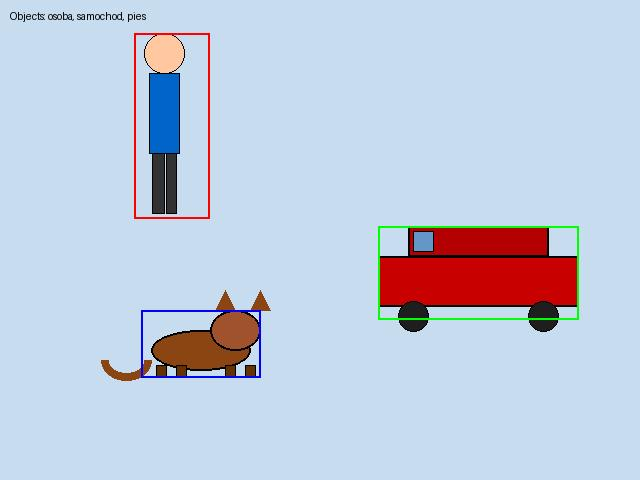osoba: (134, 33, 209, 218)
pies: (141, 310, 260, 377)
samochod: (378, 226, 578, 319)
